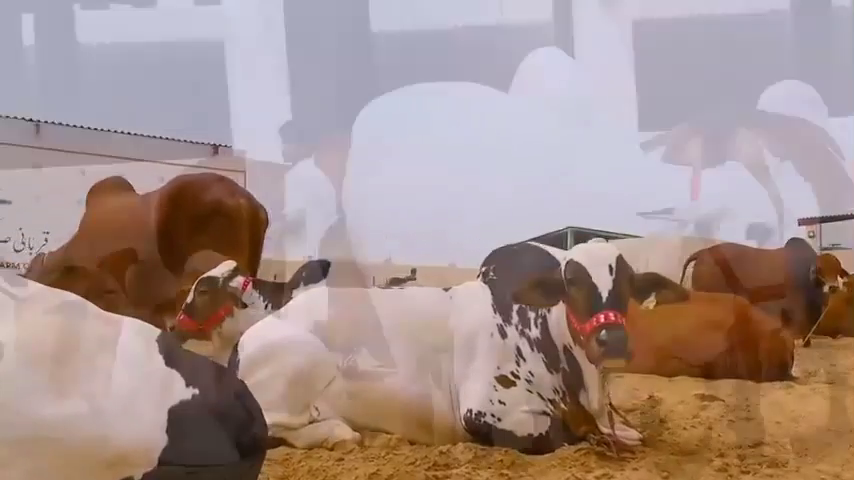bo: (226, 236, 691, 453), (8, 265, 271, 476), (33, 164, 261, 277), (598, 266, 798, 383), (678, 219, 846, 340)
